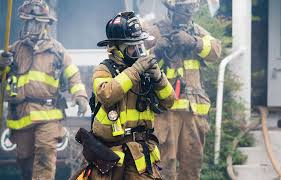emergent: (91, 10, 167, 178), (3, 1, 66, 180), (155, 1, 211, 180)
